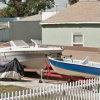Boat: (44, 50, 100, 89)
